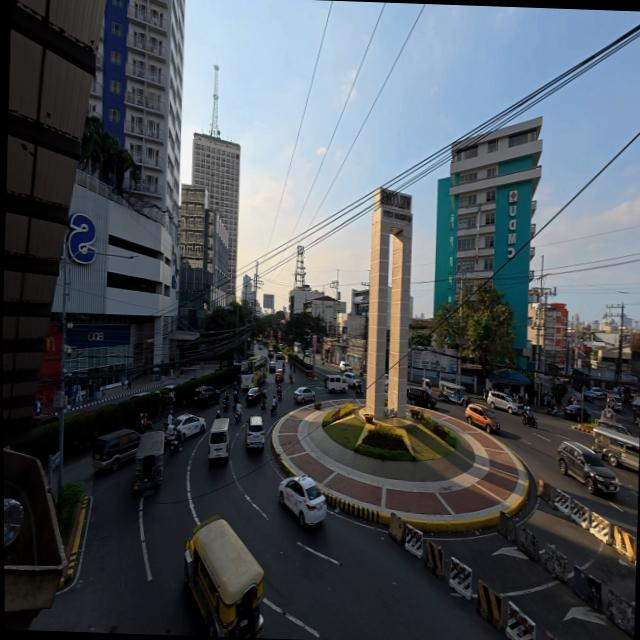Jeepneys: (184, 517, 262, 637), (591, 425, 639, 471), (134, 432, 163, 492), (438, 382, 470, 407)
bus: (240, 356, 267, 389), (292, 343, 302, 355)
car: (556, 441, 618, 494), (278, 476, 325, 526), (90, 429, 138, 470), (165, 414, 205, 441), (464, 405, 499, 432), (208, 418, 228, 464), (487, 391, 519, 414), (245, 416, 264, 450), (406, 387, 435, 407), (596, 419, 630, 436), (193, 386, 219, 407), (563, 404, 589, 423), (32, 415, 58, 428), (293, 387, 314, 403), (343, 372, 360, 389), (245, 387, 261, 405), (128, 391, 149, 400), (582, 389, 596, 401), (157, 384, 175, 392), (274, 369, 284, 383), (339, 361, 351, 372), (590, 387, 602, 397), (267, 349, 273, 361), (269, 361, 275, 372), (275, 352, 283, 360), (305, 350, 311, 357), (258, 345, 262, 350), (637, 420, 639, 428)
motorcycle: (136, 419, 152, 434), (522, 412, 536, 428), (169, 432, 180, 452), (545, 405, 556, 416), (222, 399, 229, 411), (354, 384, 361, 396), (276, 388, 282, 400), (234, 411, 240, 423), (232, 392, 238, 404), (269, 405, 275, 415), (260, 399, 265, 411), (289, 373, 292, 384)
vans: (324, 374, 348, 394), (606, 395, 621, 411)
